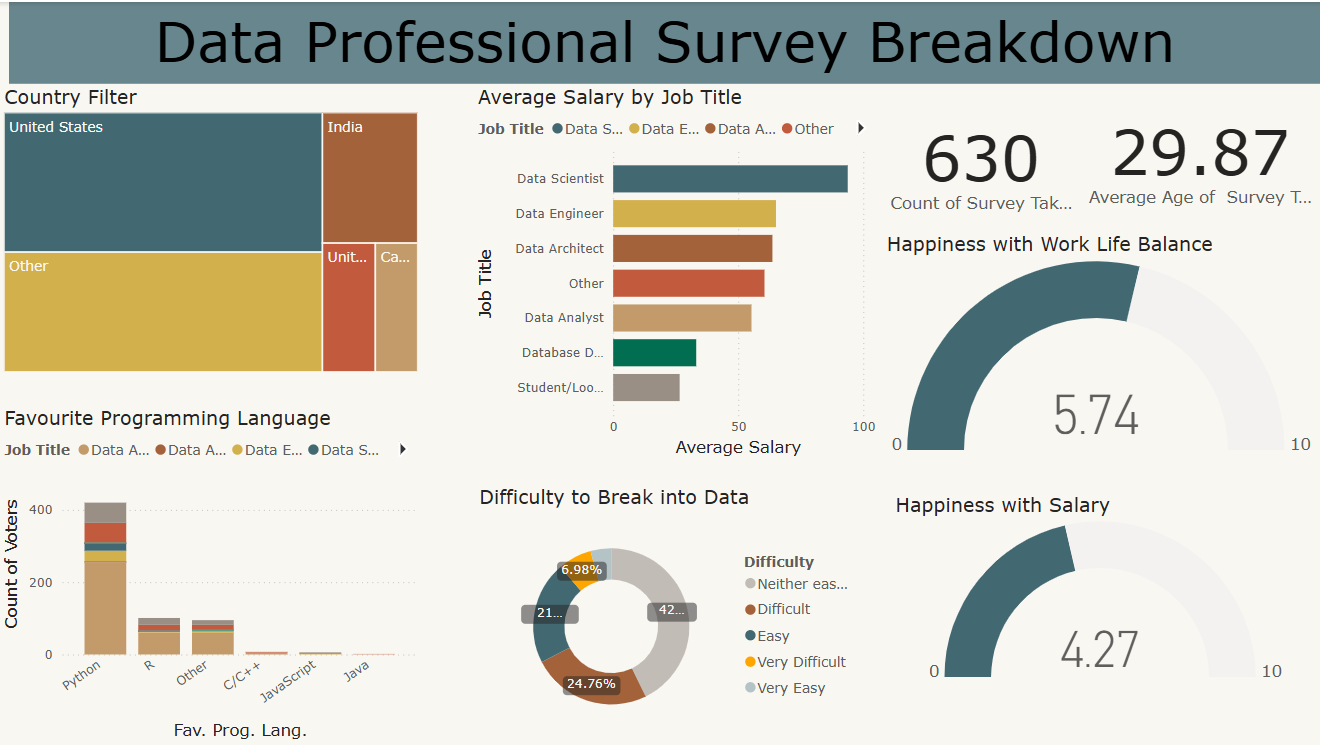

The dashboard page shown, as its layout file describes it:
{"tool":"powerbi","page":{"name":"Page 1","canvas":[1280,720],"ordinal":0},"visuals":[{"type":"textbox","box":[9.6,0,1270.7,79.6],"z":0},{"type":"card","fields":{"Values":["Count(Data Professional Survey.Unique ID)"]},"box":[854.4,91.5,193.2,130.9],"z":1000},{"type":"card","fields":{"Values":["Avg(Data Professional Survey.Q10 - Current Age)"]},"box":[1047.6,80.1,232.7,142.4],"z":2000},{"type":"barChart","title":"Average Salary by Job Title","fields":{"Category":["Data Professional Survey.Q1 - Which Title Best Fits your Current Role?.1"],"Y":["Avg(Data Professional Survey.Average Salary)"],"Series":["Data Professional Survey.Q1 - Which Title Best Fits your Current Role?.1"]},"box":[459,80.1,395.4,364.9],"z":3000},{"type":"columnChart","title":"Favourite Programming Language","fields":{"Category":["Data Professional Survey.Q5 - Favorite Programming Language.1"],"Y":["CountNonNull(Data Professional Survey.Unique ID)"],"Series":["Data Professional Survey.Q1 - Which Title Best Fits your Current Role?.1"]},"box":[0,391.6,410.6,328],"z":4000},{"type":"treemap","title":"Country Filter","fields":{"Group":["Data Professional Survey.Q11 - Which Country do you live in?.1"],"Values":["CountNonNull(Data Professional Survey.Q11 - Which Country do you live in?.1)"]},"box":[0,80.1,410.6,283.5],"z":5000},{"type":"gauge","title":"Happiness with Work Life Balance","fields":{"Y":["Avg(Data Professional Survey.Q6 - How Happy are you in your Current Position with the following? (Work/Life Balance))"],"MinValue":["Min(Data Professional Survey.Q6 - How Happy are you in your Current Position with the following? (Work/Life Balance))"],"MaxValue":["Max(Data Professional Survey.Q6 - How Happy are you in your Current Position with the following? (Work/Life Balance))1"]},"box":[854.4,222.5,425.9,222.5],"z":6000},{"type":"gauge","title":"Happiness with Salary","fields":{"Y":["Avg(Data Professional Survey.Q6 - How Happy are you in your Current Position with the following? (Salary))"],"MinValue":["Min(Data Professional Survey.Q6 - How Happy are you in your Current Position with the following? (Salary))"],"MaxValue":["Max(Data Professional Survey.Q6 - How Happy are you in your Current Position with the following? (Salary))"]},"box":[863.3,475.5,417,188.2],"z":7000},{"type":"donutChart","title":"Difficulty to Break into Data","fields":{"Category":["Data Professional Survey.Q7 - How difficult was it for you to break into Data?"],"Y":["CountNonNull(Data Professional Survey.Q7 - How difficult was it for you to break into Data?)"]},"box":[459.5,466.9,376.2,252.8],"z":8000}]}

Visuals, with their boxes in screenshot pixels (x1, y1, x2, y2), scaled from the page's 1280x720 canvas onto the 1320x745 screenshot:
textbox: region(10, 0, 1319, 82)
card - Count(Data Professional Survey.Unique ID): region(881, 95, 1080, 230)
card - Avg(Data Professional Survey.Q10 - Current Age): region(1080, 83, 1319, 230)
"Average Salary by Job Title" barChart: region(473, 83, 881, 460)
"Favourite Programming Language" columnChart: region(0, 405, 423, 744)
"Country Filter" treemap: region(0, 83, 423, 376)
"Happiness with Work Life Balance" gauge: region(881, 230, 1319, 460)
"Happiness with Salary" gauge: region(890, 492, 1319, 687)
"Difficulty to Break into Data" donutChart: region(474, 483, 862, 744)
